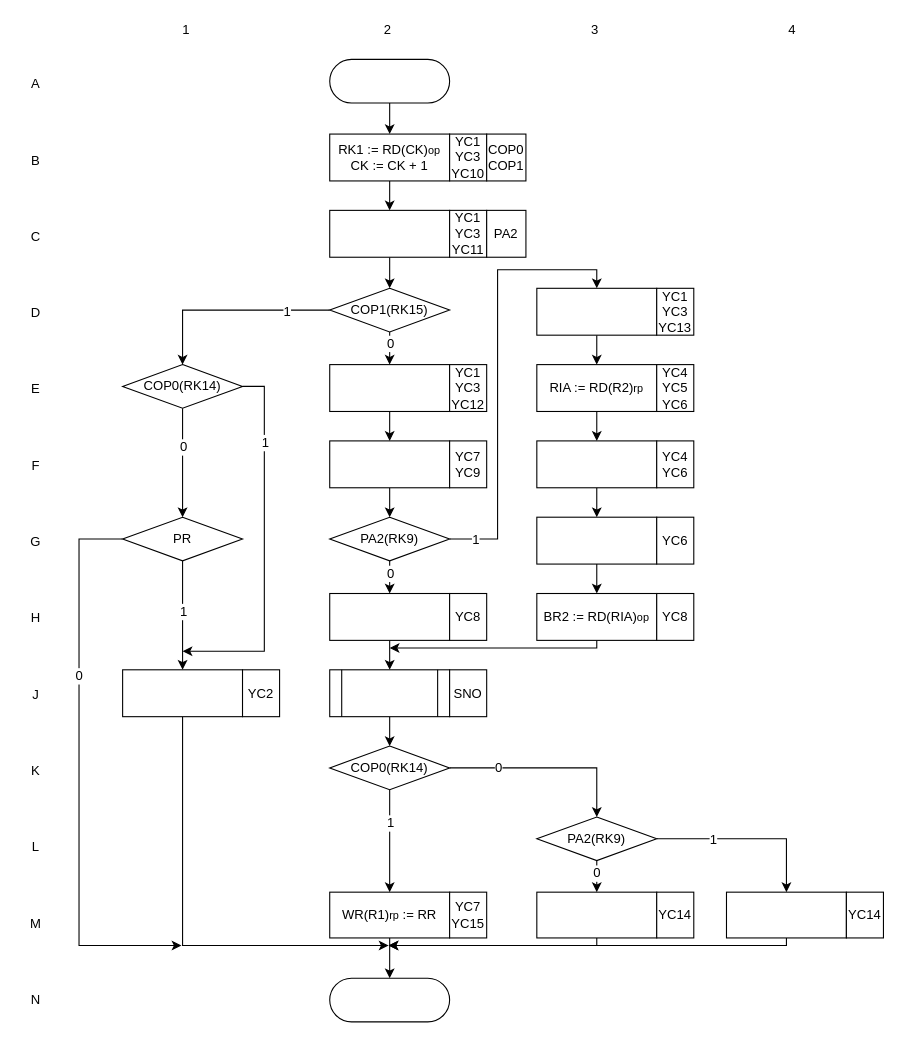
The diagram is 903 pixels wide and 1041 high, and some of its shapes have lost their labels. Each missing label, with the centre of its shape:
"BR1 := RD(R1) rp" goes at [389,464].
"BR2 := RD(A2) op" goes at [389,616].
"CK := CK + SM" goes at [182,693].
"RIA := RD(RIA) op" goes at [596,464].
"RIA := RIA + OF2" goes at [596,540].
"RK2 := RD(CK) op CK := CK + 1" goes at [389,233].
"RK3 := RD(CK) op CK := CK + 1" goes at [389,387].
"RK4 := RD(CK) op CK := CK + 1" goes at [596,311].
"WR(A2) op := RR" goes at [785,914].
"WR(RIA) op := RR" goes at [596,914].
"Выполнение операции в АЛУ" goes at [389,693].
"КОНЕЦ ЦИКЛА" goes at [389,999].
"НАЧАЛО ЦИКЛА" goes at [389,80].
